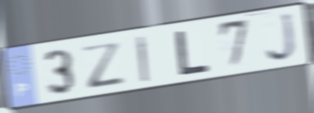3: (42, 47, 76, 96)
7: (217, 17, 252, 71)
I: (135, 34, 151, 85)
J: (265, 10, 300, 64)
L: (173, 28, 211, 78)
Z: (80, 39, 127, 91)
